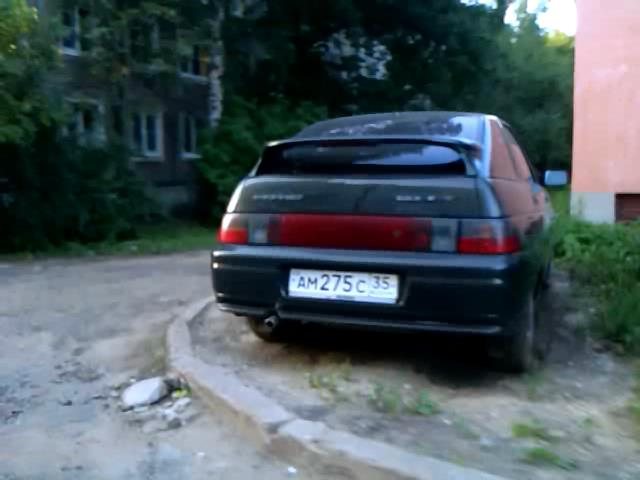car license plate: (286, 268, 401, 303)
